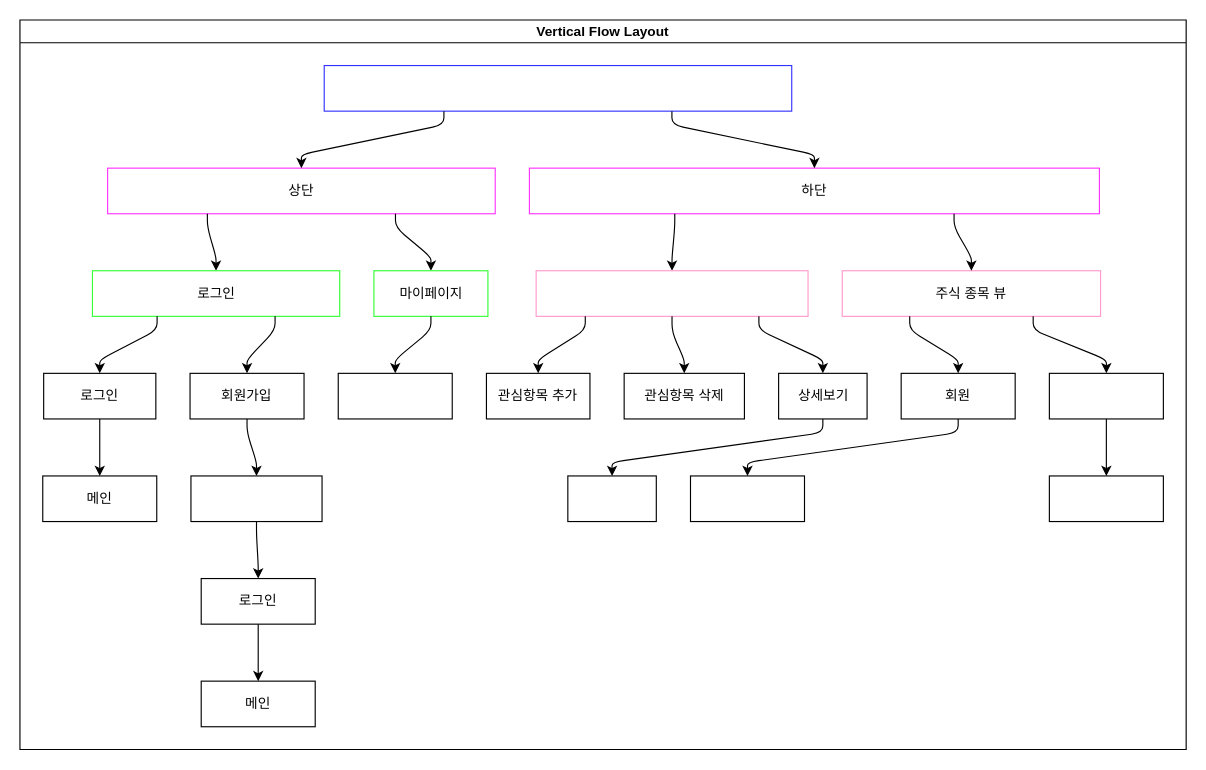
This 1206x770 diagram has some shape labels left out. Each missing label, with the centre of its shape:
"Stock View Webstie (메인)" belongs at point 557,87.
"검색 뷰" belongs at point 671,293.
"관심항목 목록" belongs at point 746,498.
"뒤로가기" belongs at point 611,498.
"비회원" belongs at point 1105,395.
"상승률 대비 top 10" belongs at point 1105,498.
"회원정보 수정" belongs at point 394,395.
"회원정보 입력 및 가입" belongs at point 256,498.
